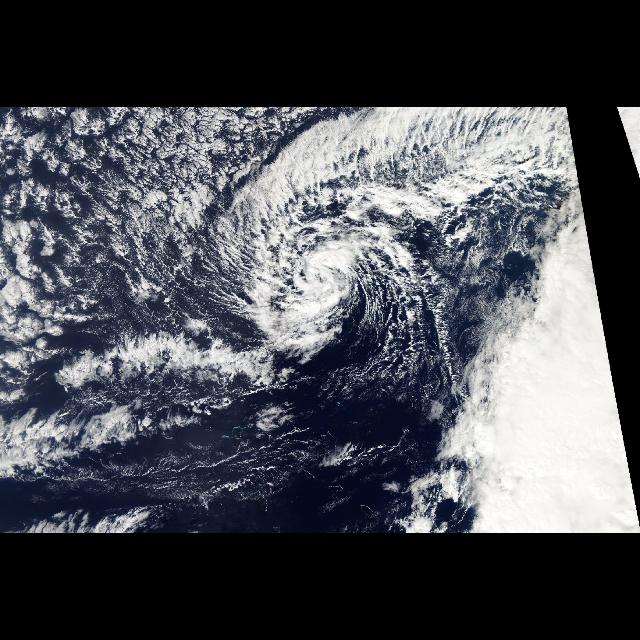Sugar: (37, 401, 433, 512), (88, 108, 216, 328)
